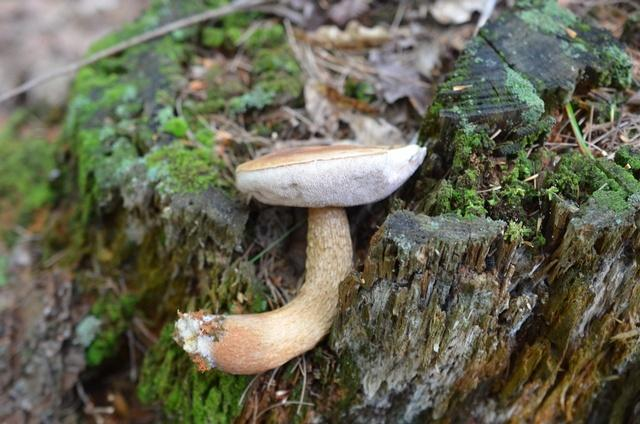poisonous_mushroom: (172, 141, 427, 376)
